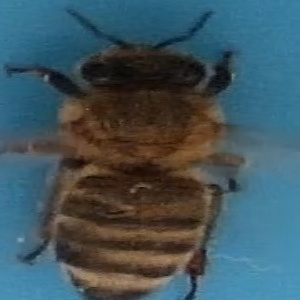bee: (10, 7, 252, 300)
